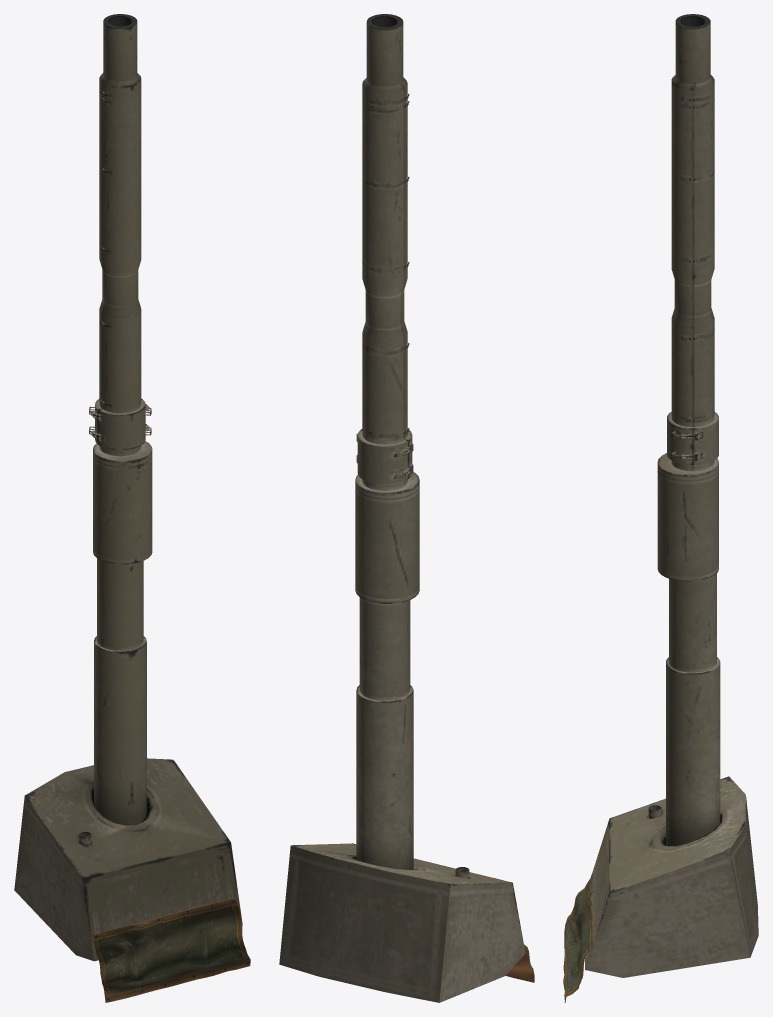
The model's file is Gun_01.glb.
The picture shows the model from 3 angles, left to right: view 1: azimuth 30°, elevation 25°; view 2: azimuth 150°, elevation 25°; view 3: azimuth 270°, elevation 25°; orthographic projection. The views are drawn at different scales.
Parts seen in each view (by area): view 1: set_0_group_0; view 2: set_0_group_0; view 3: set_0_group_0.
Boxes of the visible parts, x1,y1,x2,y2 form: set_0_group_0: (14, 14, 250, 1002); set_0_group_0: (279, 14, 534, 1002); set_0_group_0: (563, 14, 758, 1002).
Size of the model in its own units: 0.788 by 4.65 by 0.868.
1 material, 1 textured.
